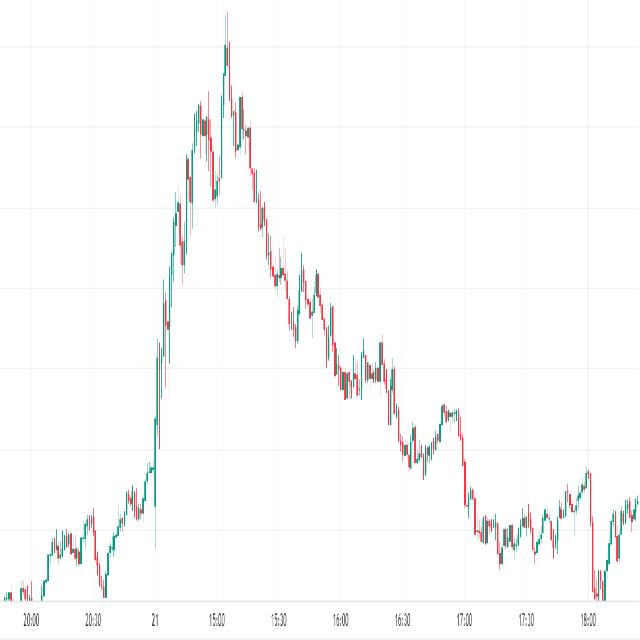Double-Top: (294, 248, 326, 332)
